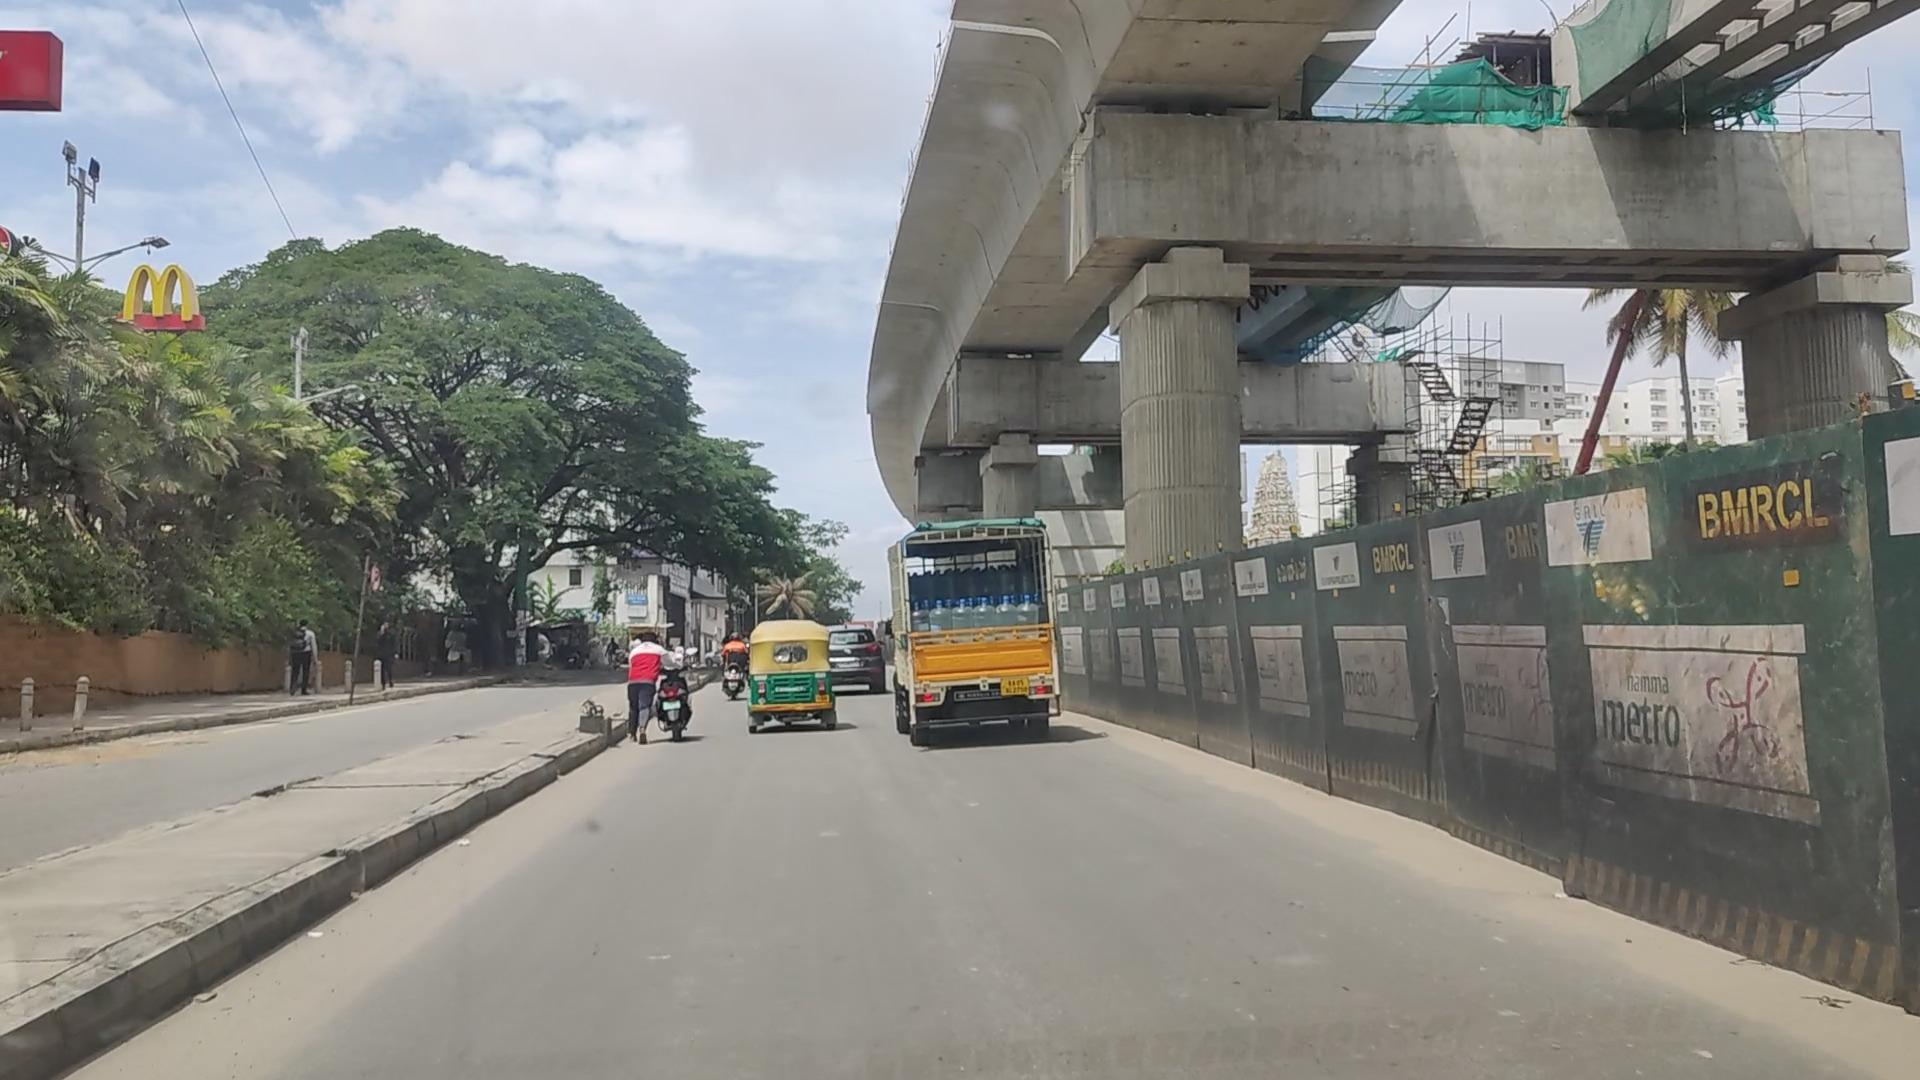HMV: (902, 512, 1058, 745)
LMV: (746, 615, 843, 732)
